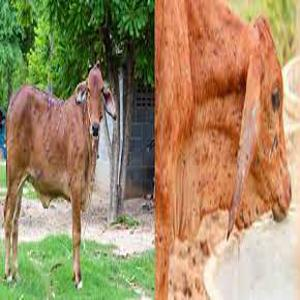lumpy skin diesease: (0, 61, 117, 290)
